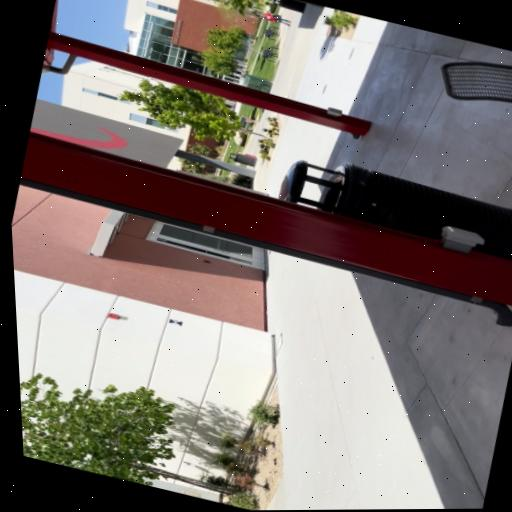target2: (169, 318, 183, 326)
